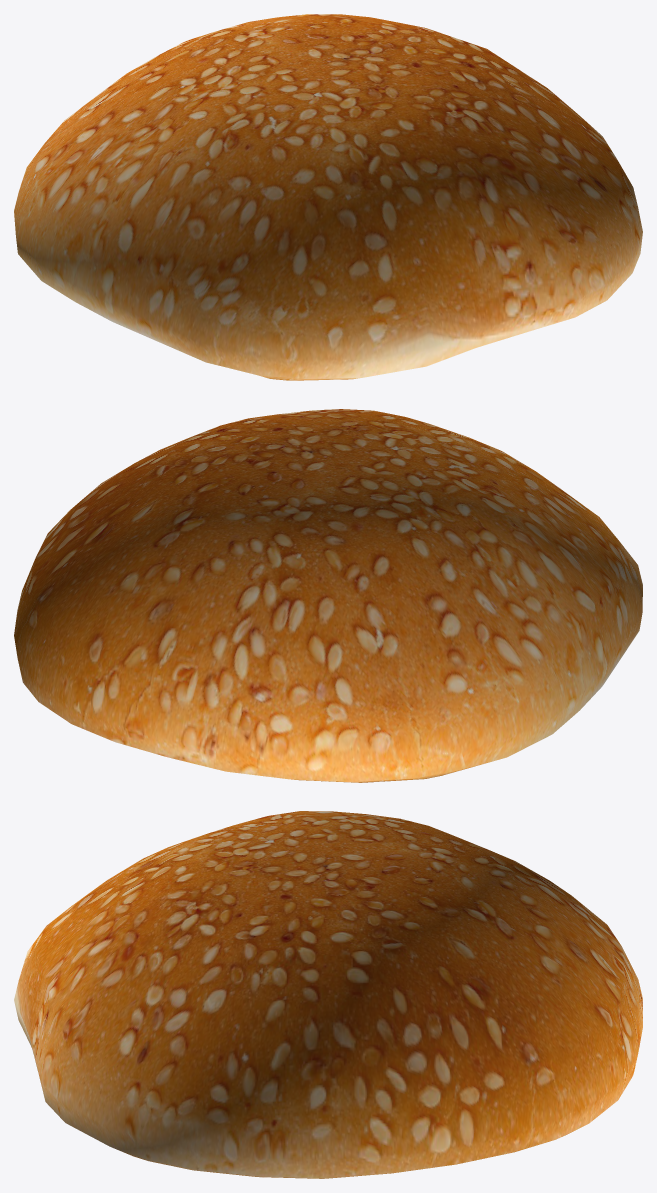
File: bun.obj
3 views of the same model, one above another, from view 1: azimuth 30°, elevation 25°; view 2: azimuth 150°, elevation 25°; view 3: azimuth 270°, elevation 25° (orthographic). The views are drawn at different scales.
Parts seen in each view (by area): view 1: obj6; view 2: obj6; view 3: obj6.
Boxes of the visible parts, bbox=[...] form: obj6: bbox=[14, 14, 642, 380]; obj6: bbox=[14, 409, 642, 782]; obj6: bbox=[14, 811, 642, 1178].
Size of the model in its own units: 2.17 by 0.8052 by 2.19.
Materials: 1 (1 with a texture image).
